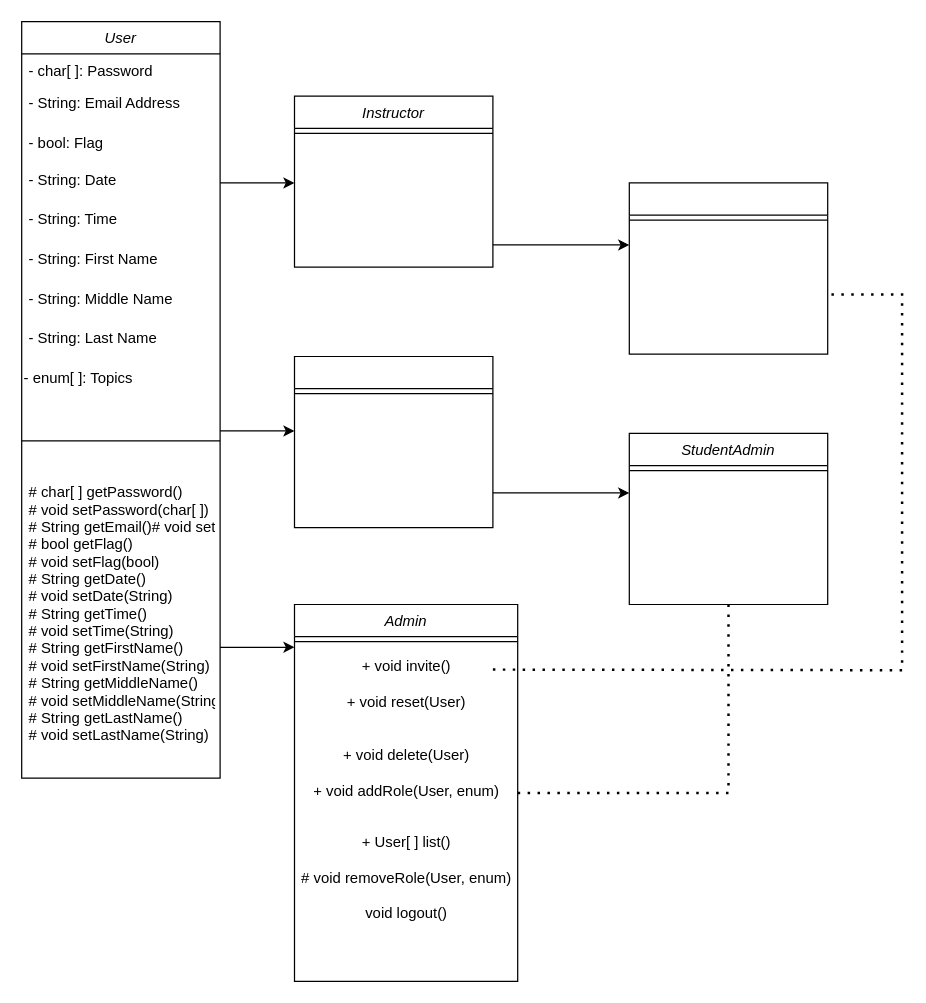
This 926x1003 diagram has some shape labels left out. The shapes that lost their labels are listed below. From the top down, each one's centre as x and y in pixels, then its label:
point 728,268: InstructorAdmin
point 393,441: Student
